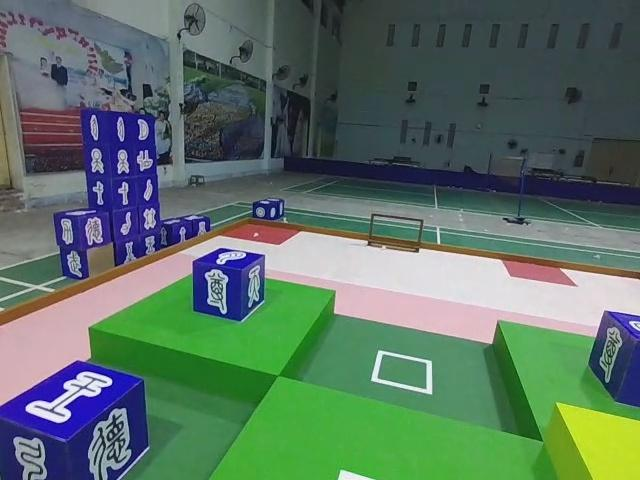R2 Fake Blue: (2, 362, 150, 480), (190, 247, 265, 323), (589, 313, 640, 418), (51, 207, 113, 252)
